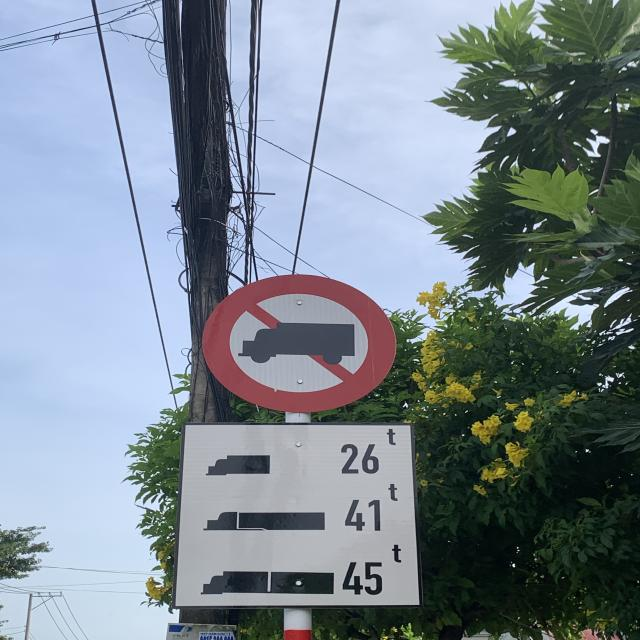Cam_Xe_Tai: (201, 271, 398, 415)
